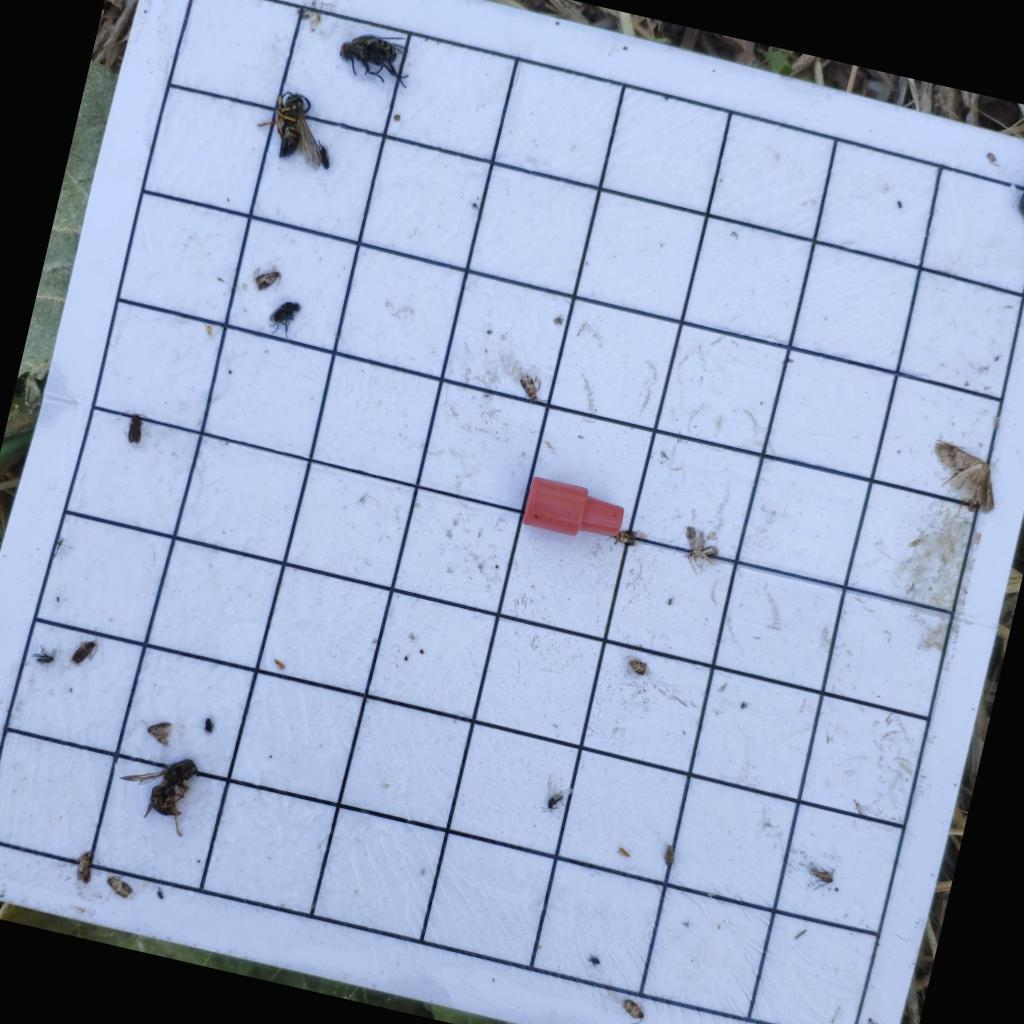grape_moth: (673, 524, 724, 580), (132, 714, 176, 748), (250, 261, 285, 295), (513, 368, 545, 403), (71, 847, 99, 885), (803, 862, 836, 894), (103, 870, 138, 900), (616, 995, 649, 1023), (610, 524, 640, 548), (624, 654, 652, 676), (660, 841, 678, 868)
